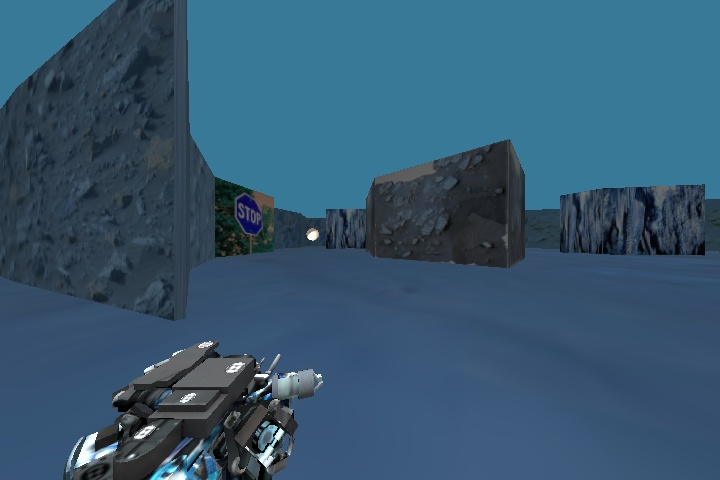stop_sign: (226, 183, 270, 241)
white_sphere: (297, 221, 329, 245)
